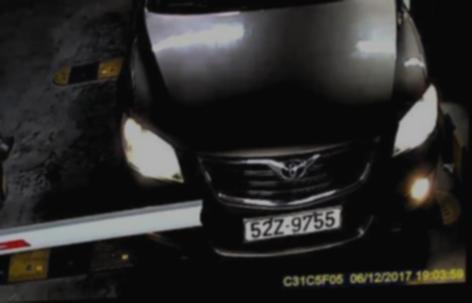License_Plate: (239, 205, 343, 243)
